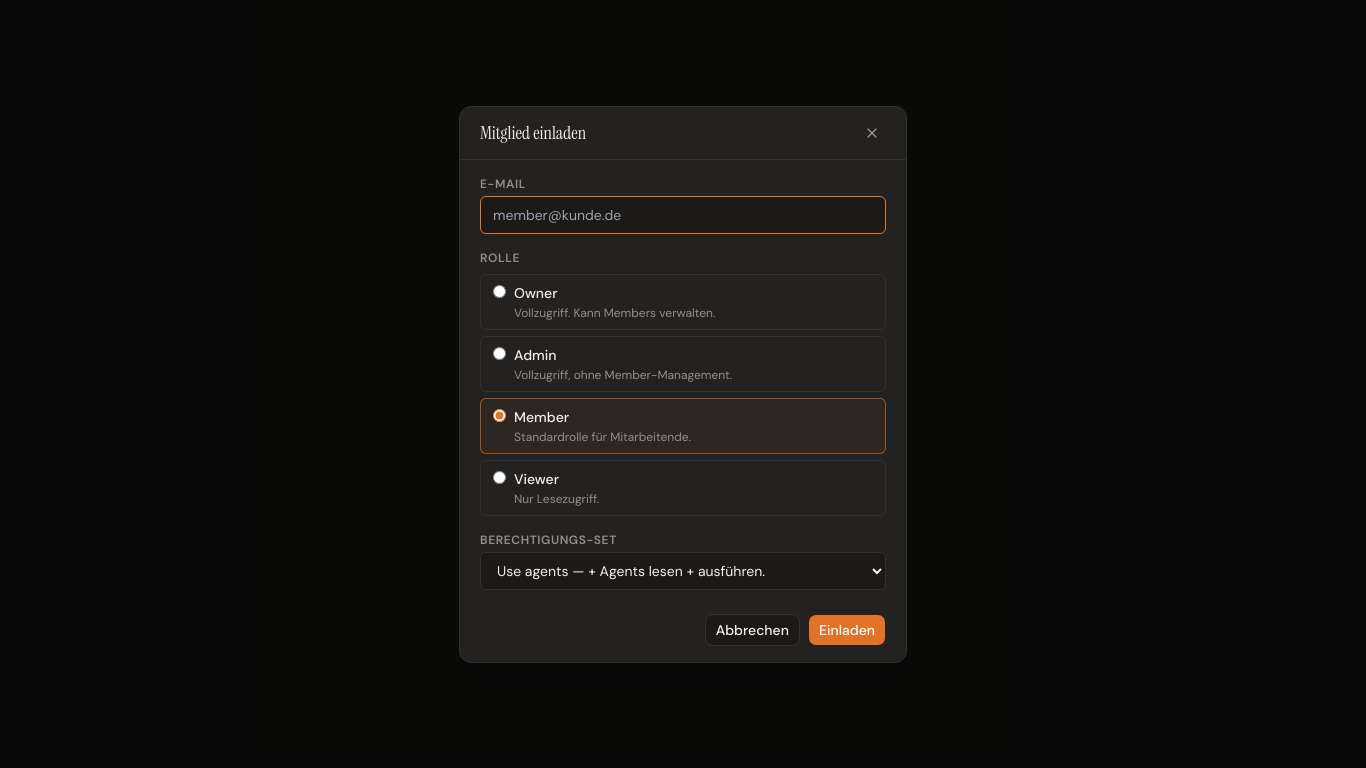
Test: InviteSubOrgMemberModal › surfaces the server's error message when POST fails
Type "x@y.de" into the field with test id "sub-org-memberships-invite-email" at (683, 214), box [480,196,886,234]
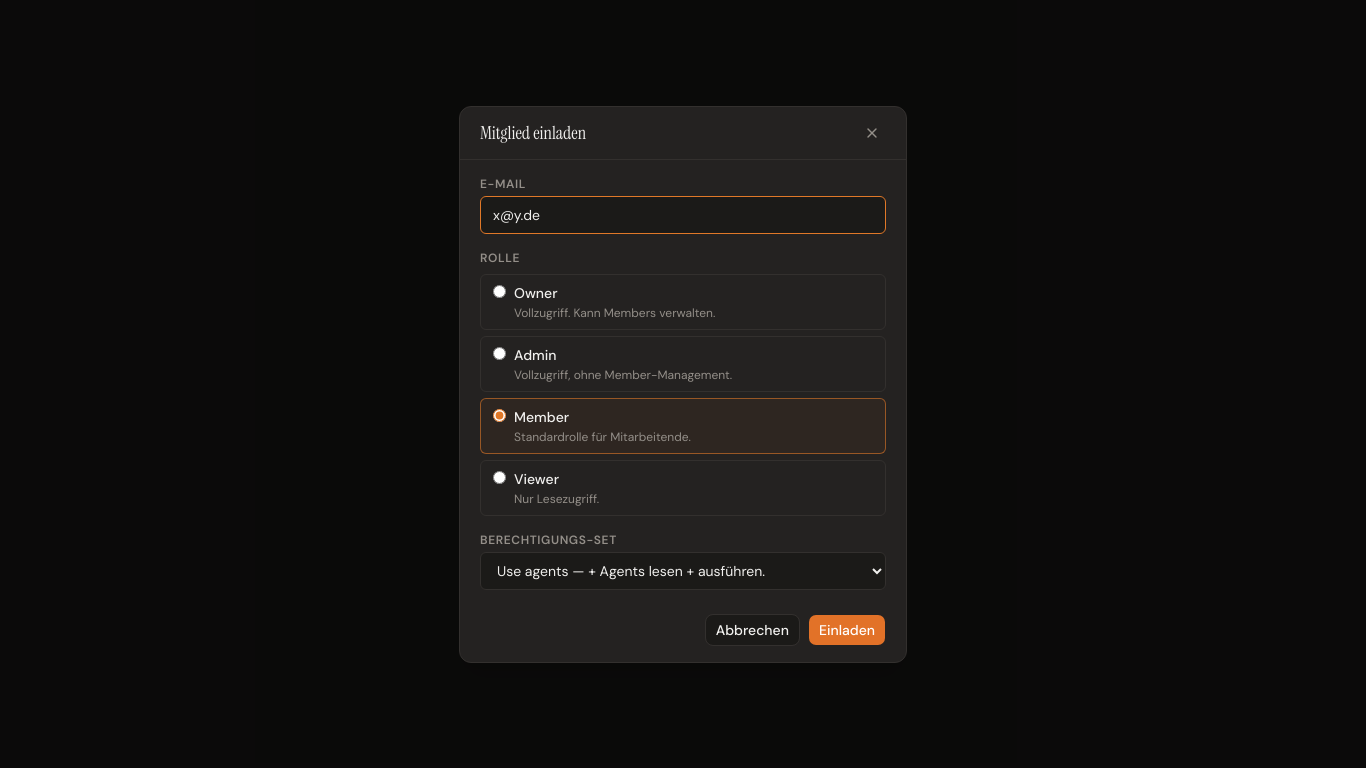
Submit the form with test id "sub-org-memberships-invite-email", box [460,160,906,662]
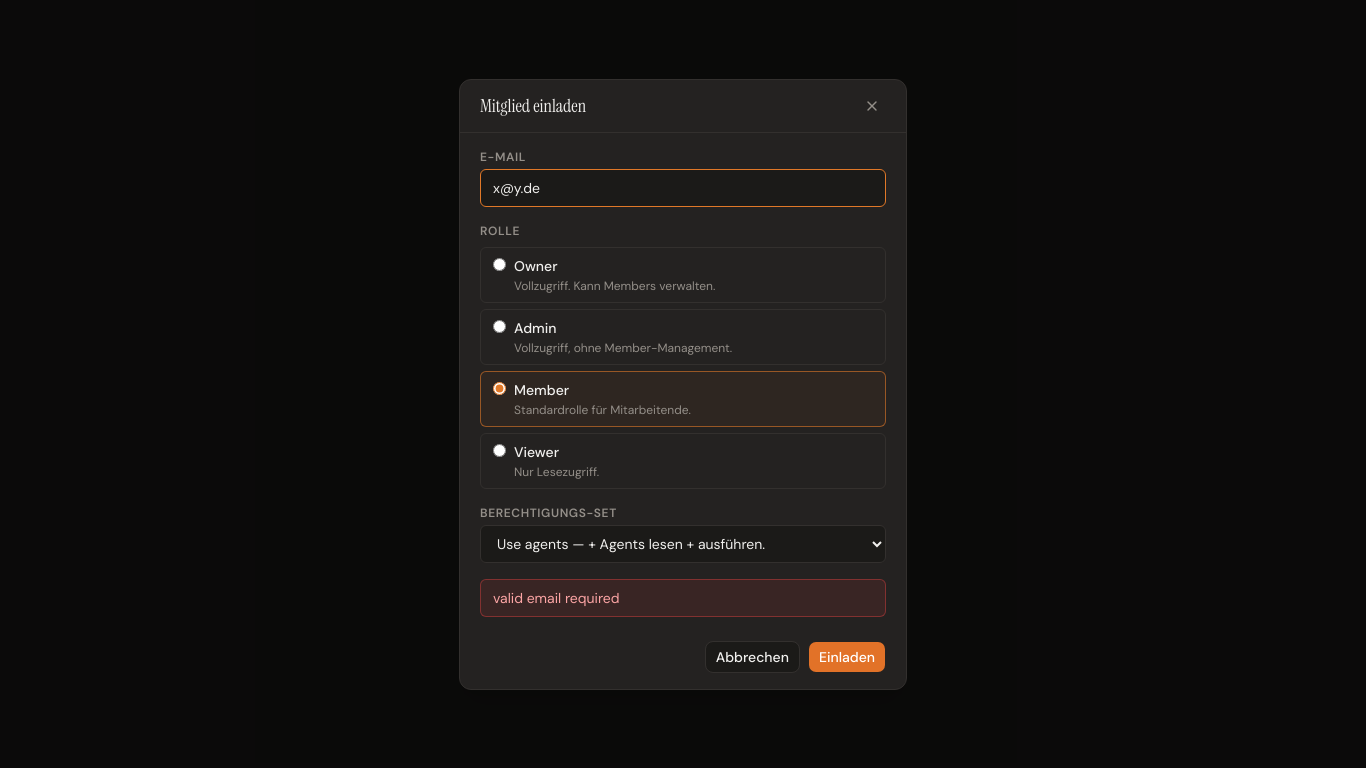
Expected: the text with test id "sub-org-memberships-invite-error" reads "valid email required", [493,588,620,606]
